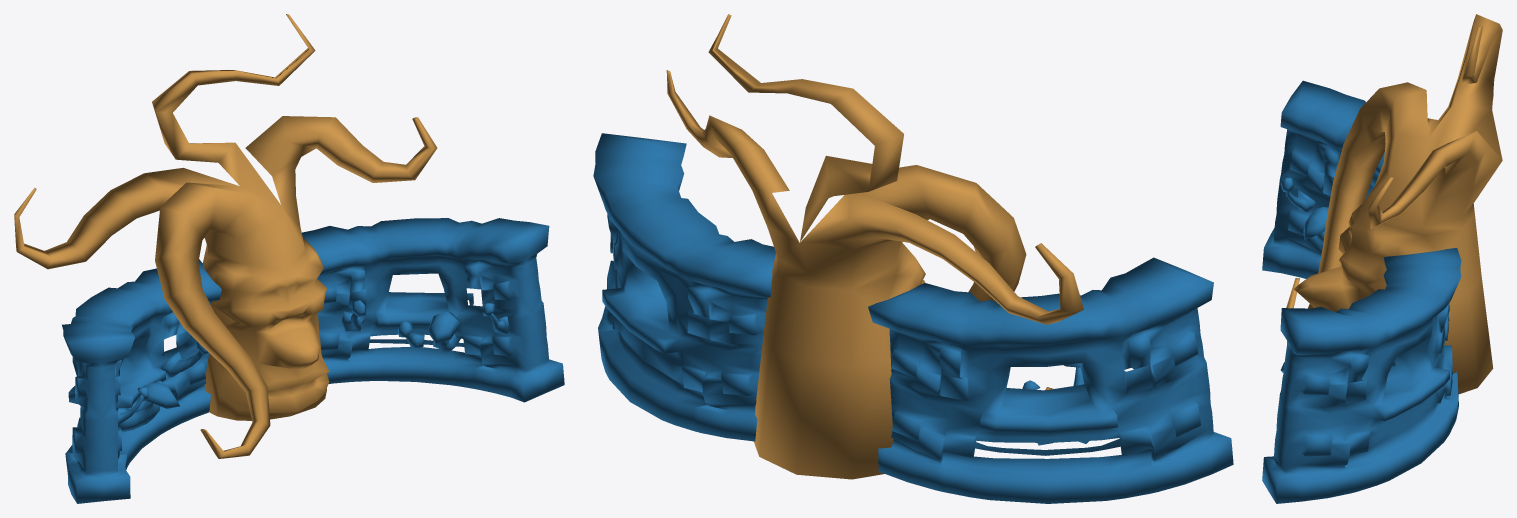
The model's file is treeguardian.glb.
3 renders of one model, left to right at view 1: azimuth 30°, elevation 25°; view 2: azimuth 150°, elevation 25°; view 3: azimuth 270°, elevation 25°, orthographic. The views are drawn at different scales.
Visible parts, largest first — view 1: Plane002, Plane001; view 2: Plane002, Plane001; view 3: Plane002, Plane001.
Boxes of the visible parts, x1=… form: Plane002: x1=62, y1=218, x2=564, y2=503; Plane001: x1=14, y1=14, x2=437, y2=458; Plane002: x1=593, y1=133, x2=1233, y2=503; Plane001: x1=666, y1=14, x2=1083, y2=479; Plane002: x1=1262, y1=80, x2=1461, y2=503; Plane001: x1=1286, y1=14, x2=1502, y2=394.
Bounding box in the file's own units: 500 × 343 × 196.
